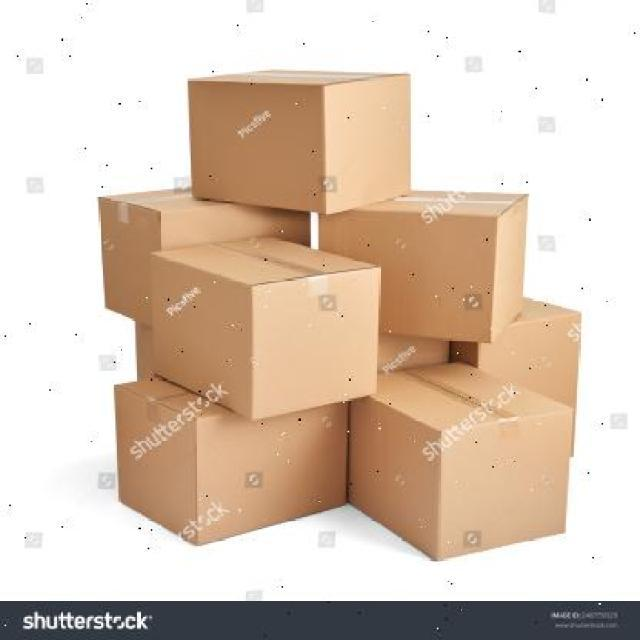BoxFace: (318, 210, 500, 346), (434, 408, 574, 562), (252, 267, 382, 418), (474, 312, 582, 459), (112, 382, 200, 546), (323, 72, 411, 216), (94, 194, 162, 328)
